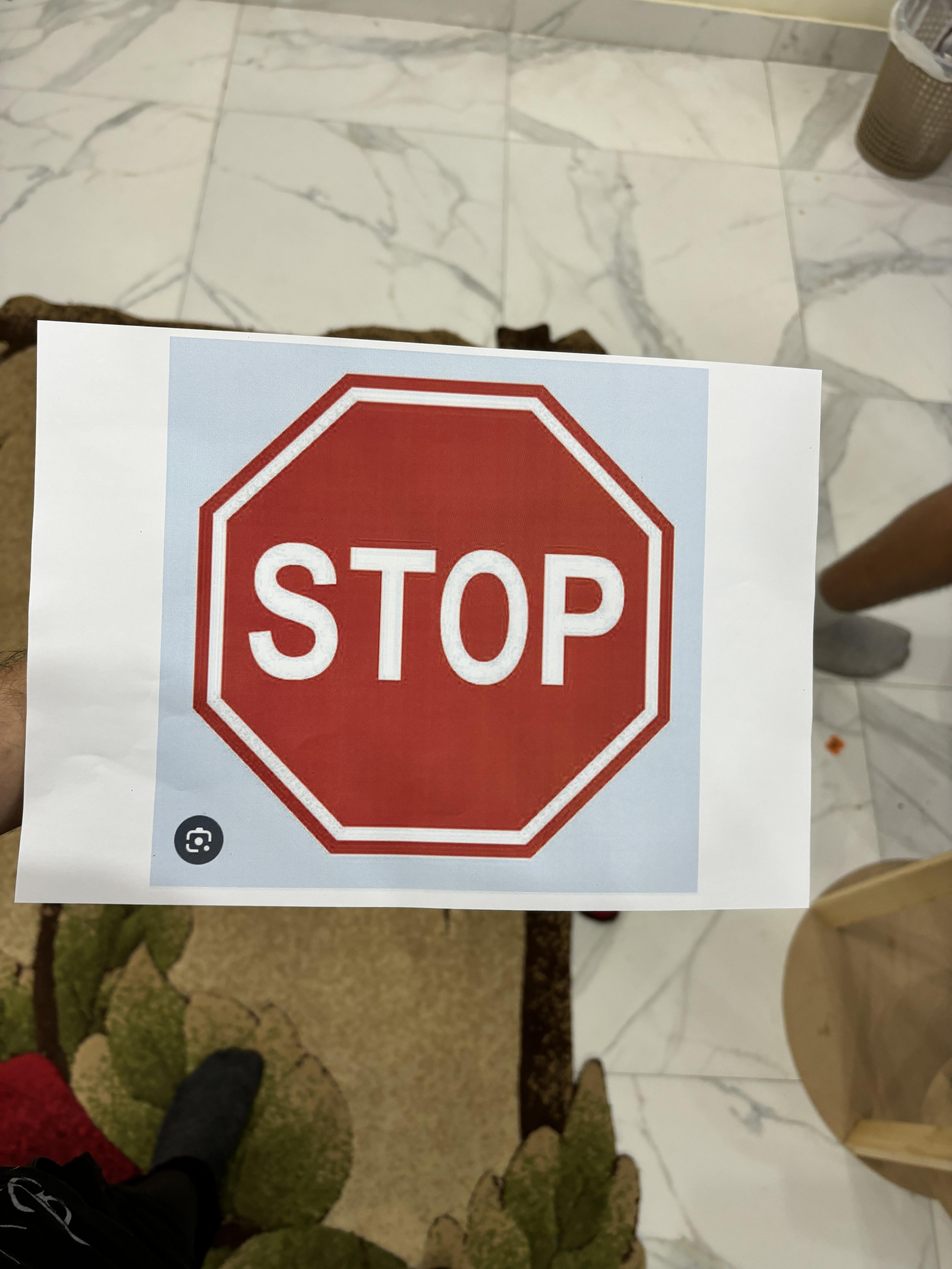Stop: (189, 363, 687, 869)
